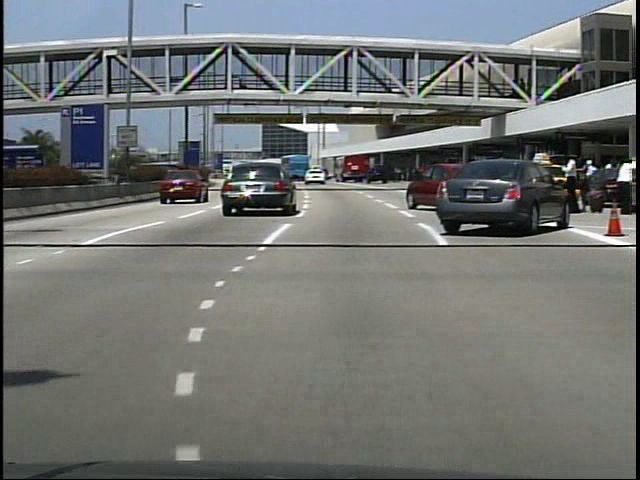person: (614, 159, 637, 212), (581, 158, 599, 219), (221, 67, 234, 93)
